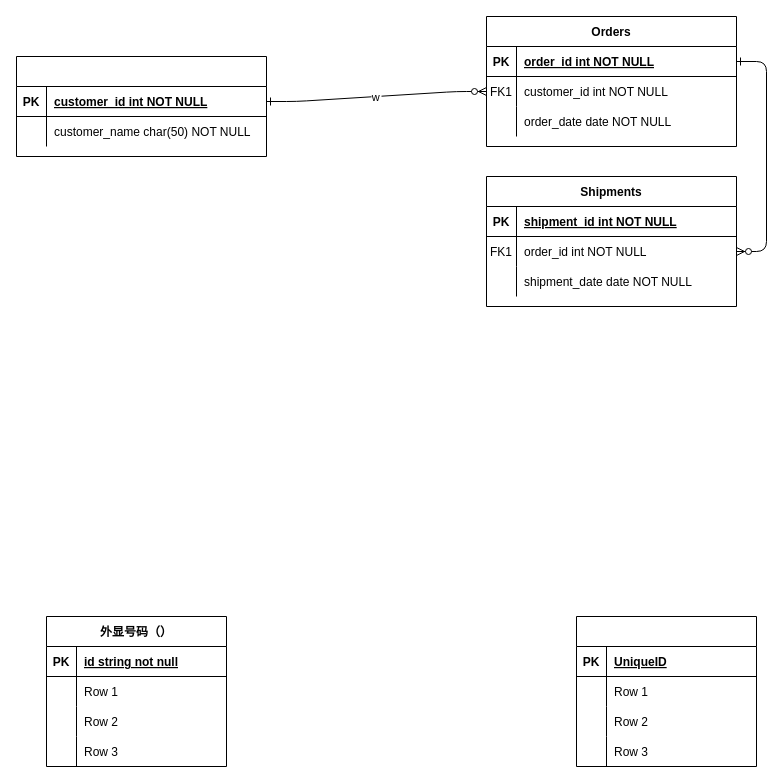
Image size: 783x783. Some labels were removed from this diagram. Each missing label, with the box of its shape:
Customers: (16, 56, 266, 156)
子号码: (576, 616, 756, 766)
